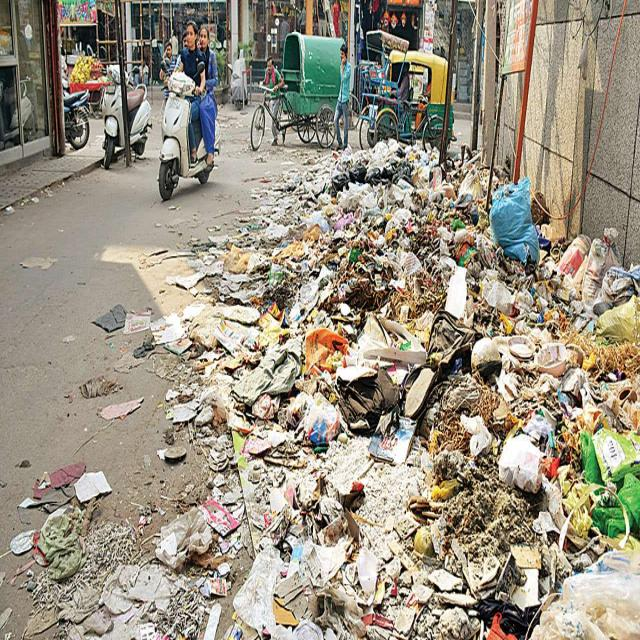garbage: (2, 131, 639, 640)
